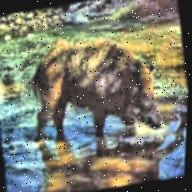boar: (7, 16, 172, 161)
